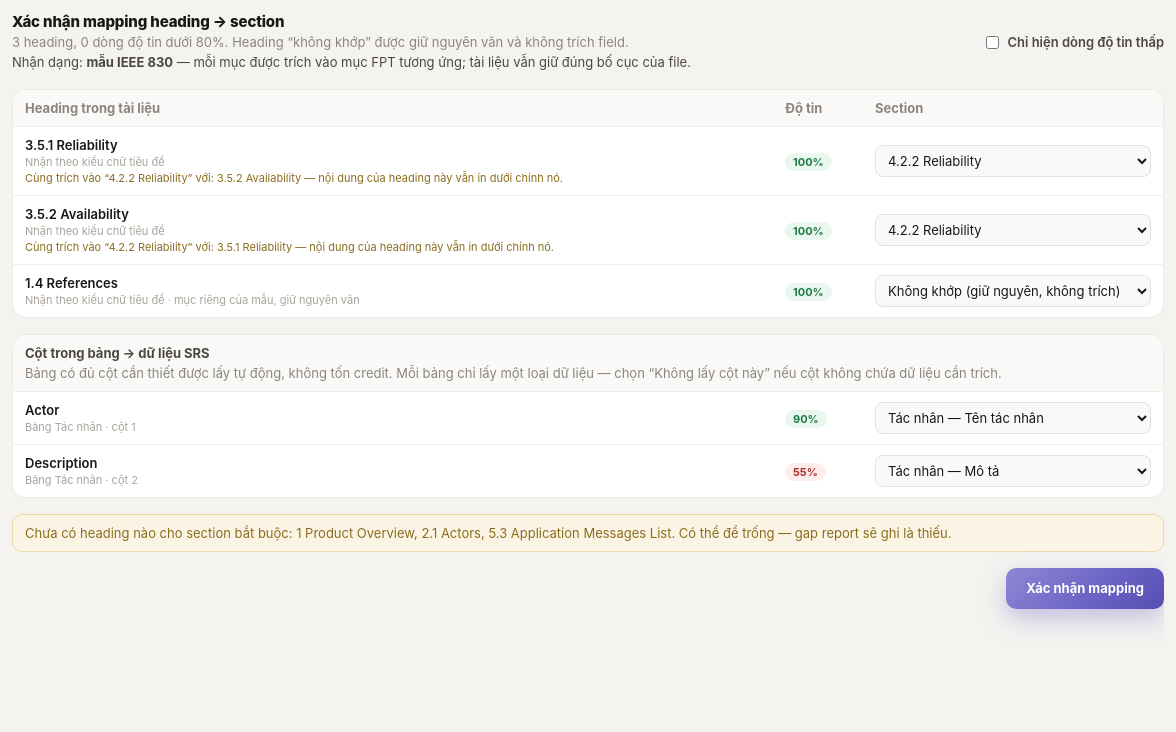
Test: MappingReviewTable — mẫu IEEE (FLF-252) › nhiều heading cùng trích vào một mục FPT ⇒ báo theo tiêu đề heading, đổi section thì hết báo
Expected: the text "với: 3.5.2 Availability — nội dung của heading này vẫn in dưới chính nó" is shown, [25,171,563,185]
Expected: the text "với: 3.5.1 Reliability" is shown, [25,240,554,254]
Step 1. Select "4.2.3 Performance" in the dropdown named "Section cho 3.5.2 Availability" → (1013, 230), box [875,214,1151,246]
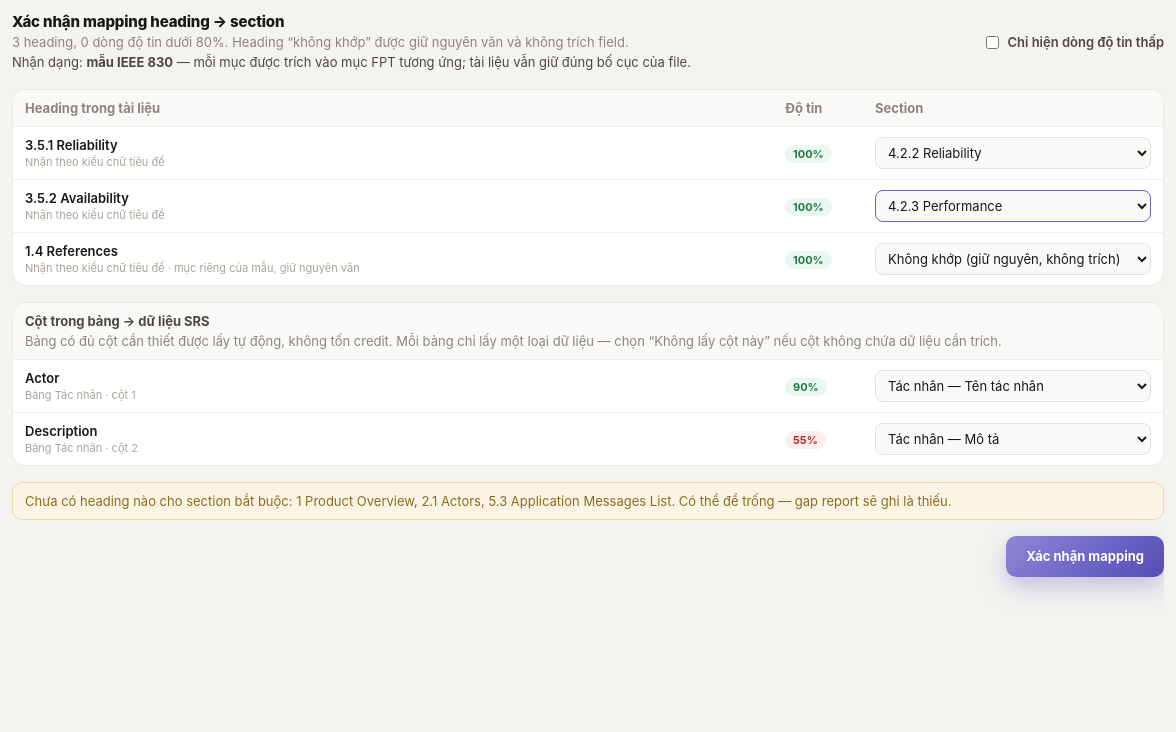
Result: the text "Cùng trích vào" is gone
